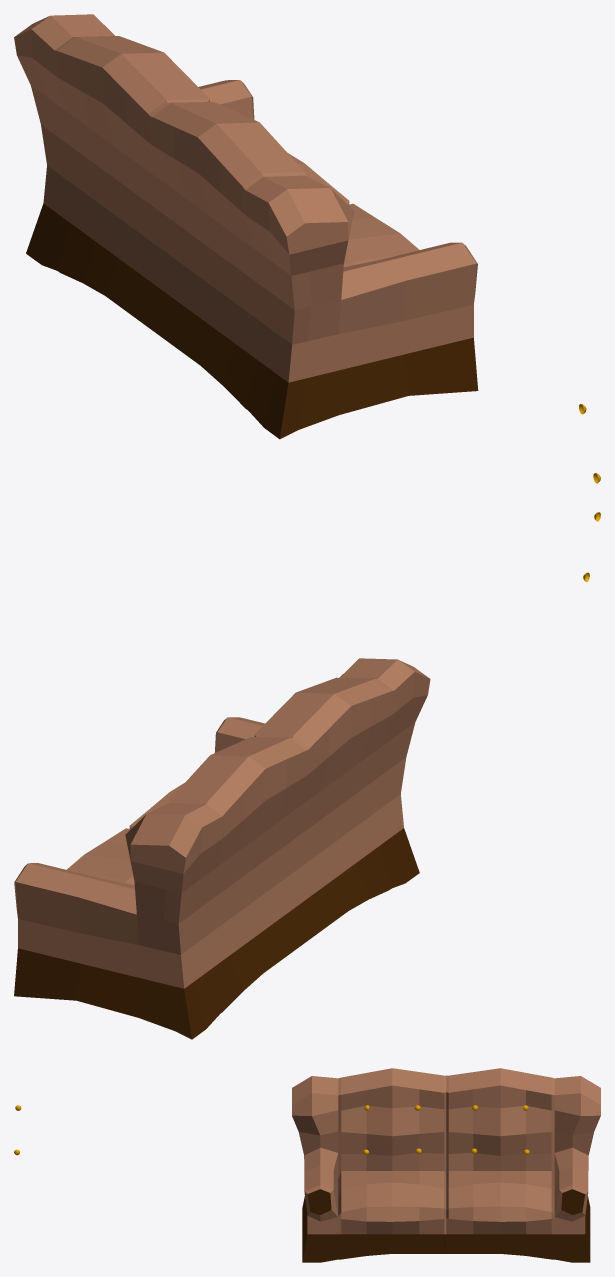
File: Light_Couch_Model.fbx
The picture shows the model from 3 angles, top to bottom: view 1: azimuth 30°, elevation 25°; view 2: azimuth 150°, elevation 25°; view 3: azimuth 270°, elevation 25°; orthographic projection. The views are drawn at different scales.
Visible parts, largest first — view 1: Couch; view 2: Couch; view 3: Couch.
Boxes of the visible parts, x1=… form: Couch: x1=14, y1=14, x2=478, y2=439; Couch: x1=14, y1=658, x2=430, y2=1039; Couch: x1=292, y1=1068, x2=600, y2=1262.
Bounding box in the file's own units: 775 × 210 × 183.
